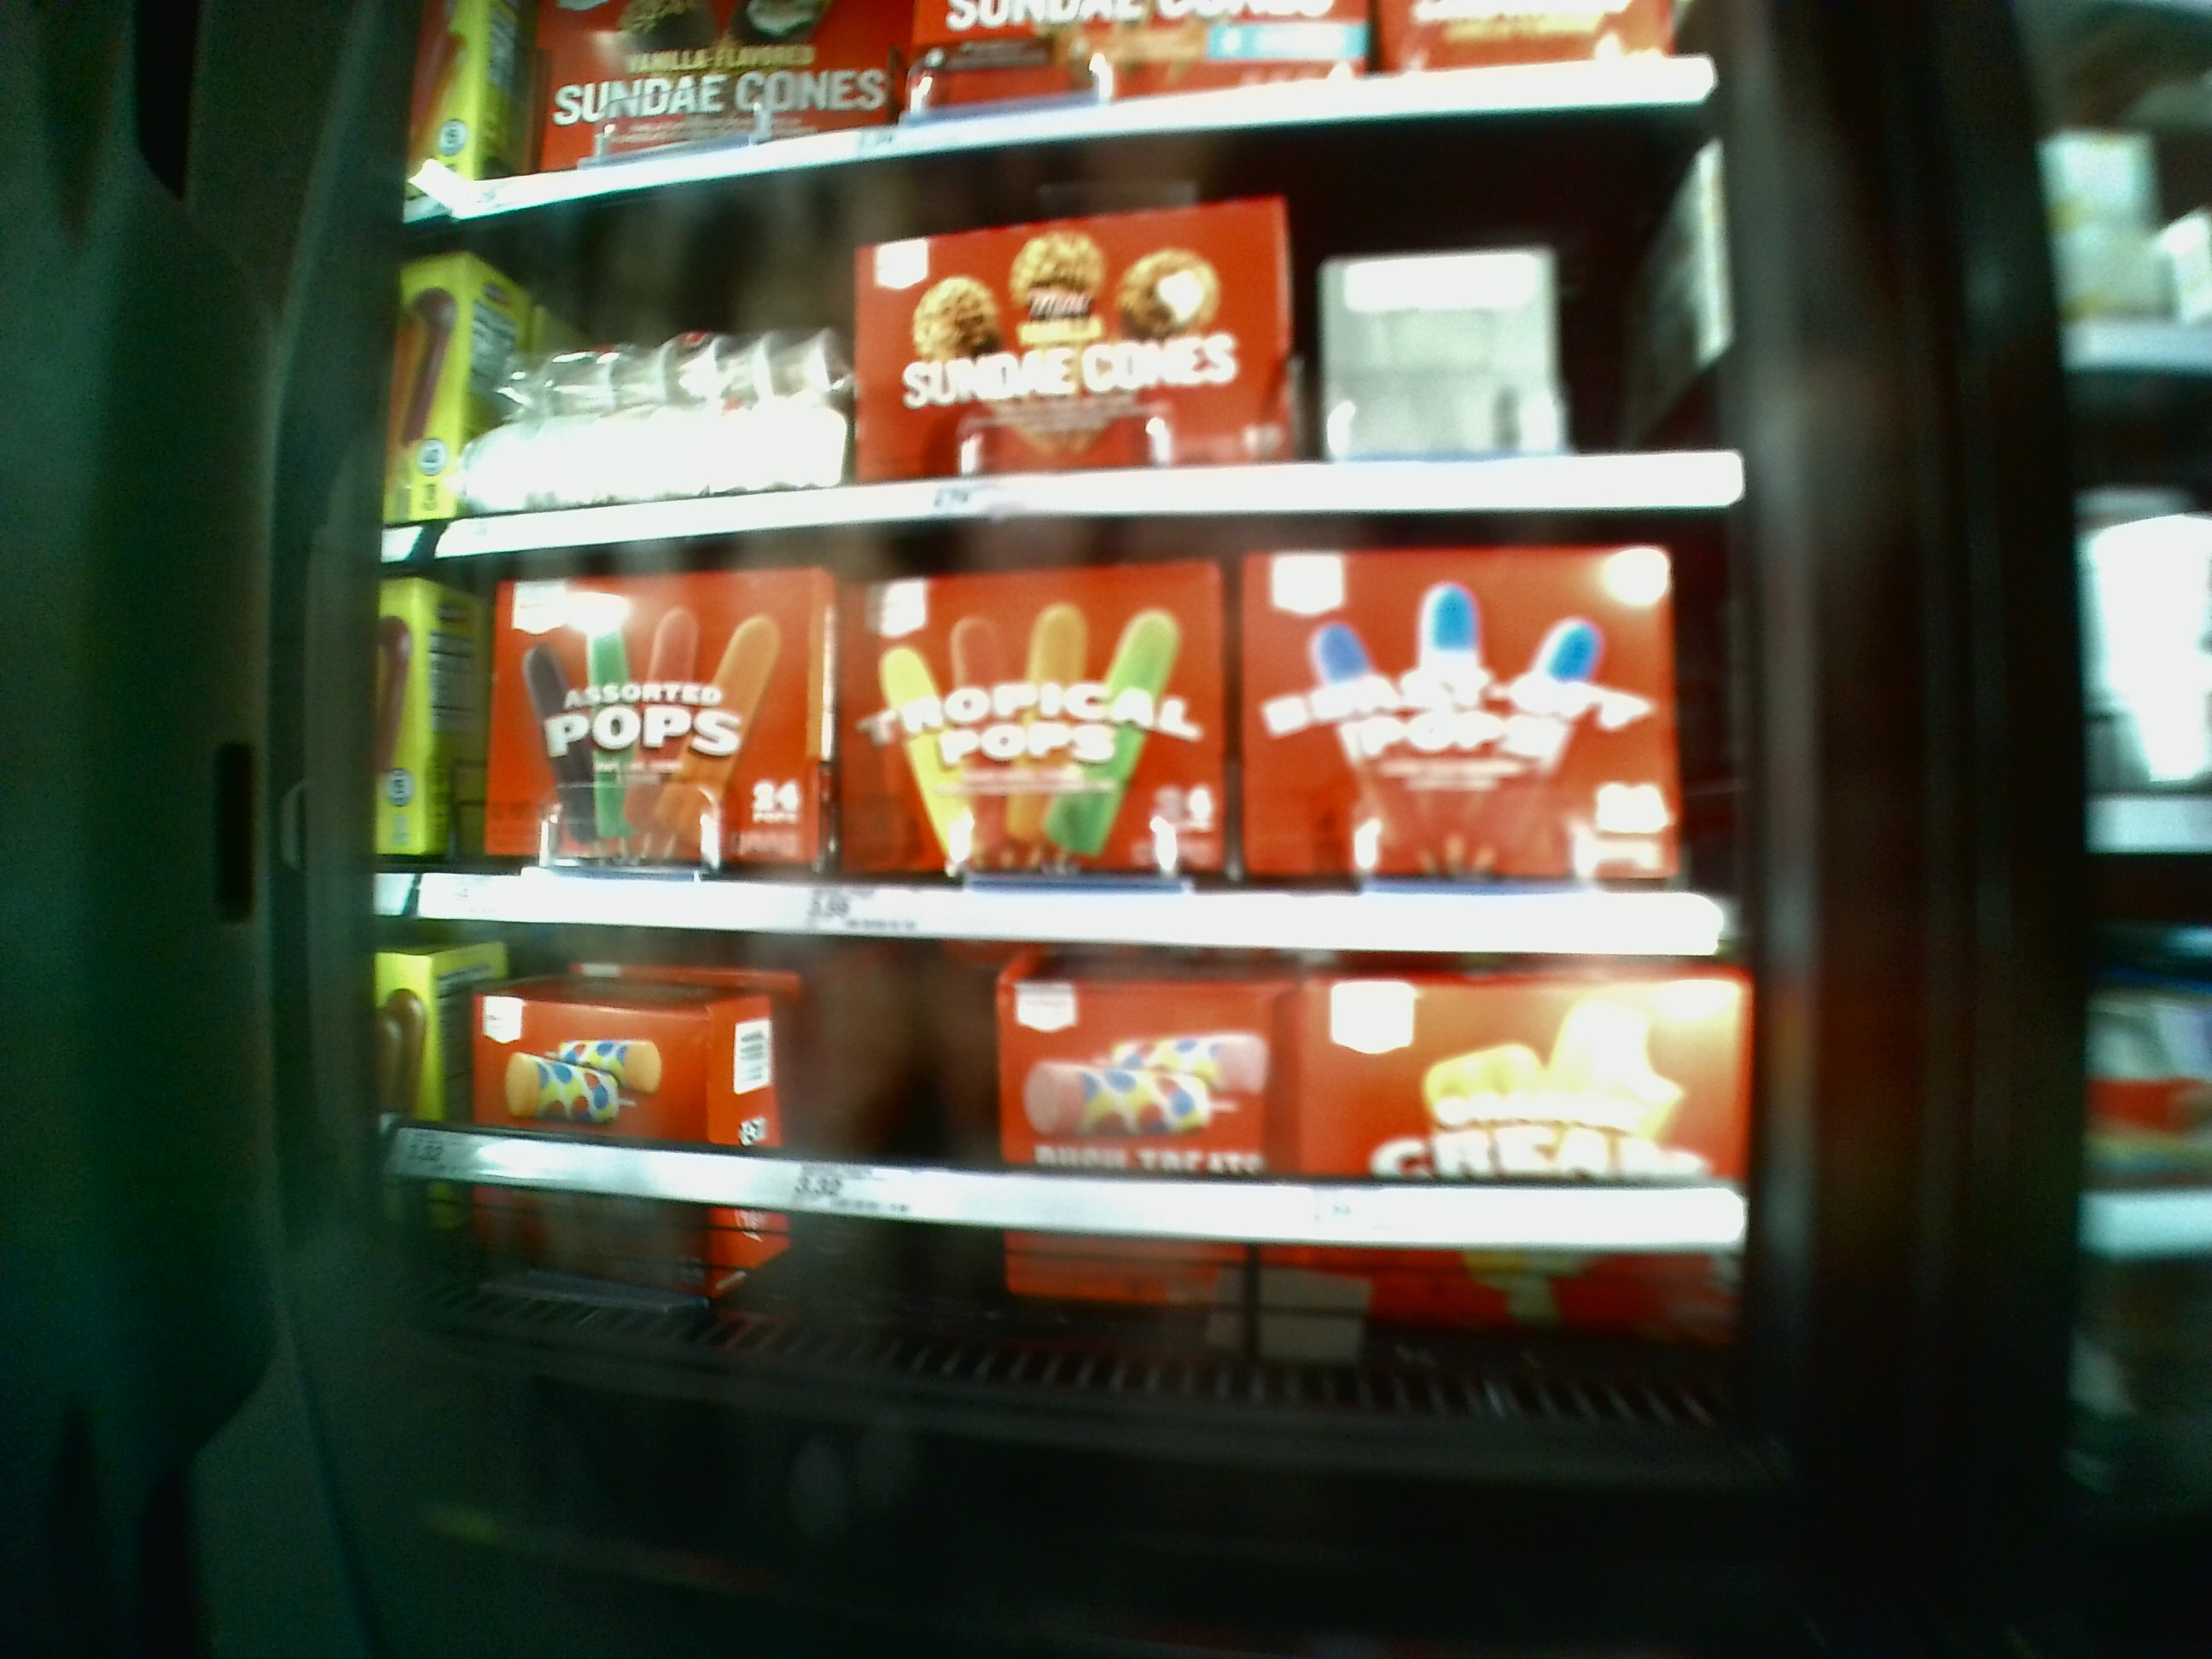shelf: (425, 931, 1749, 1434), (439, 559, 1735, 951), (442, 141, 1709, 538)
